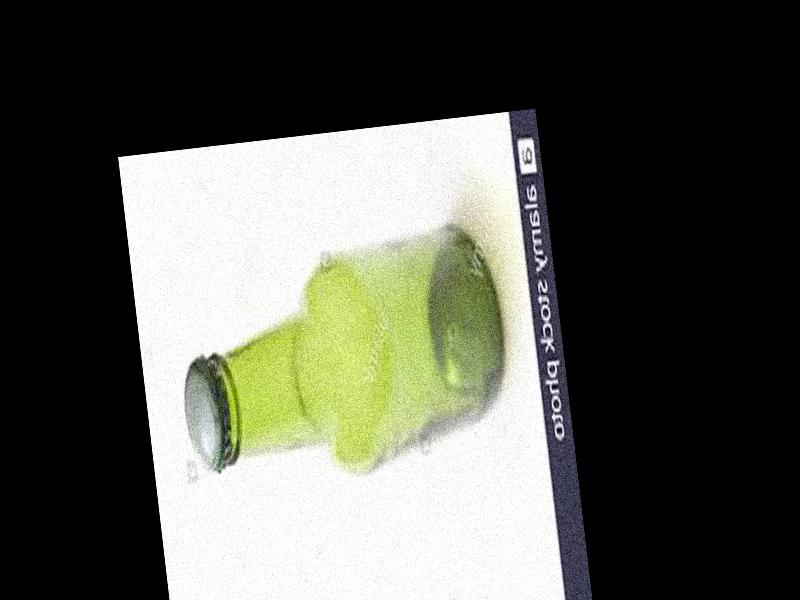Beer: (167, 222, 514, 476)
